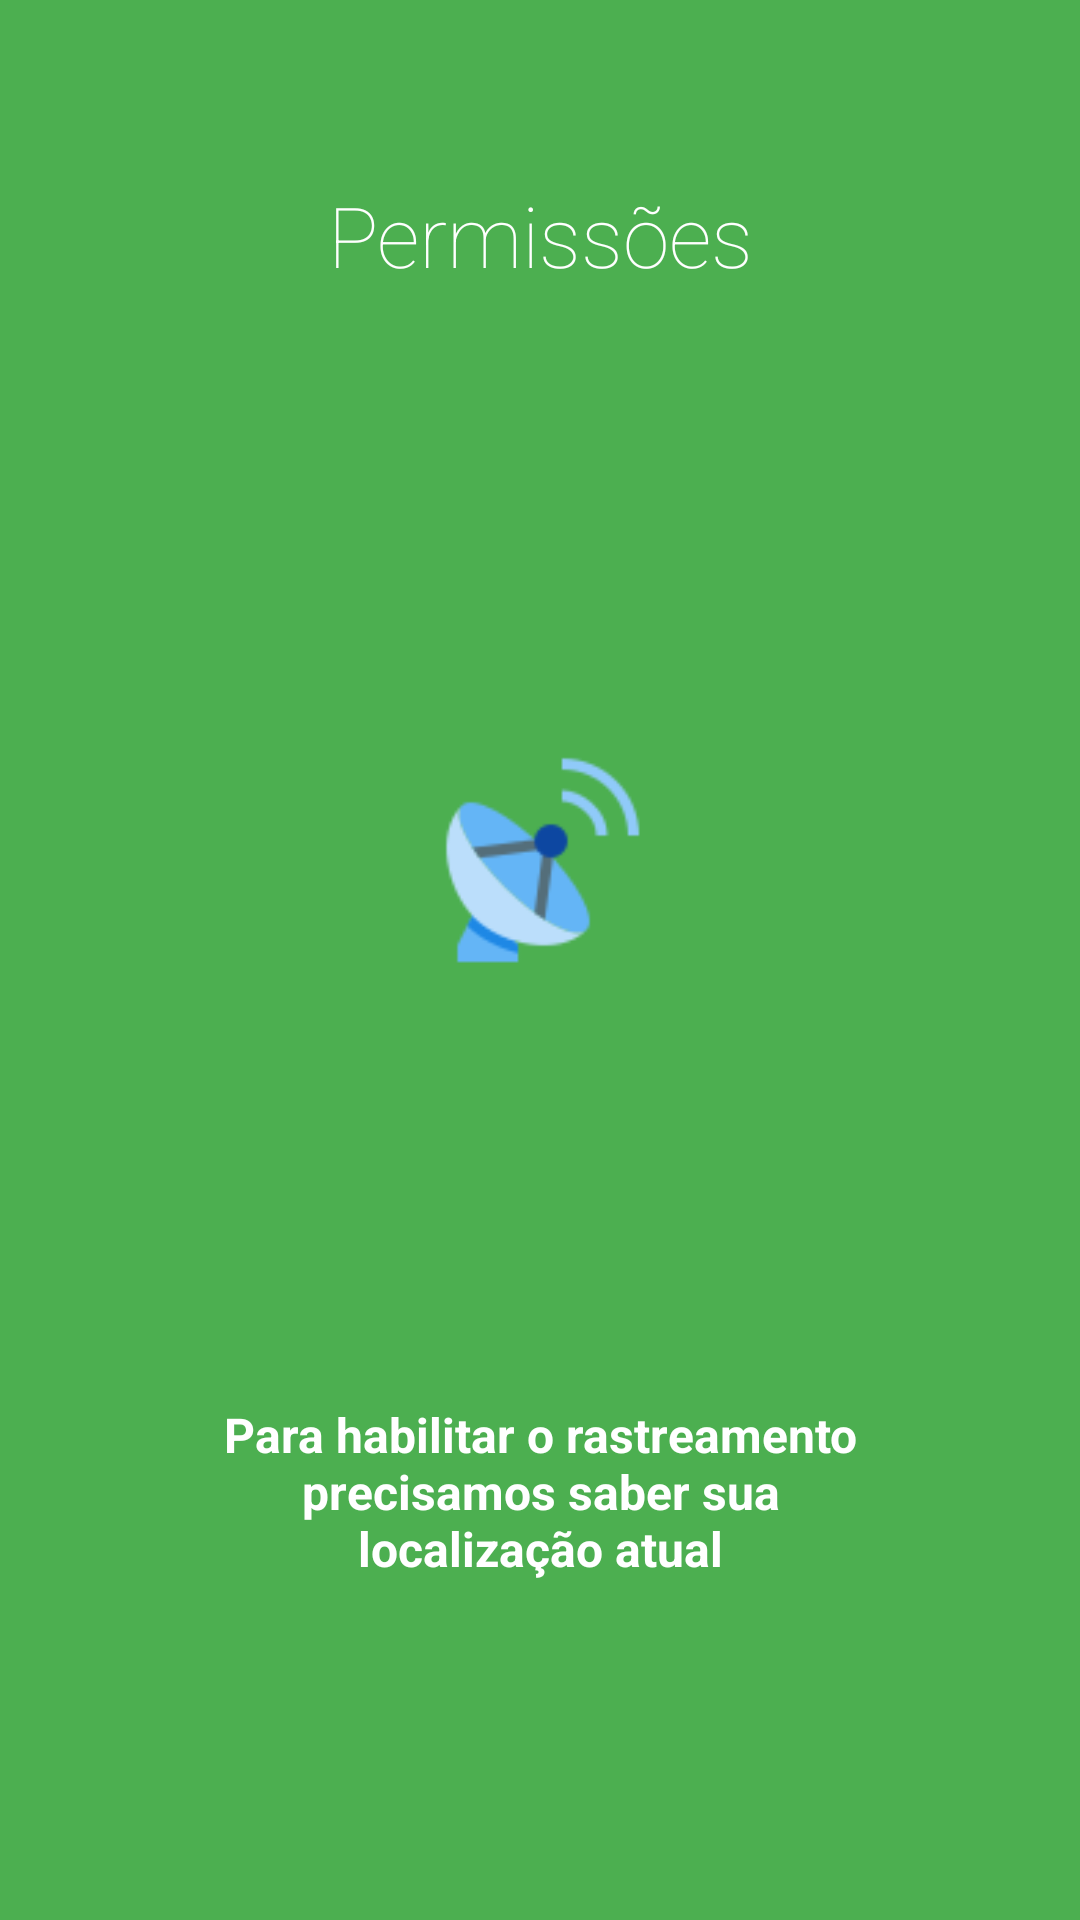

Screen size 1080px×1920px. Icon name, then its box in pixels as (x1, y1, x2, y2):
slide gps: (446, 758, 640, 963)
